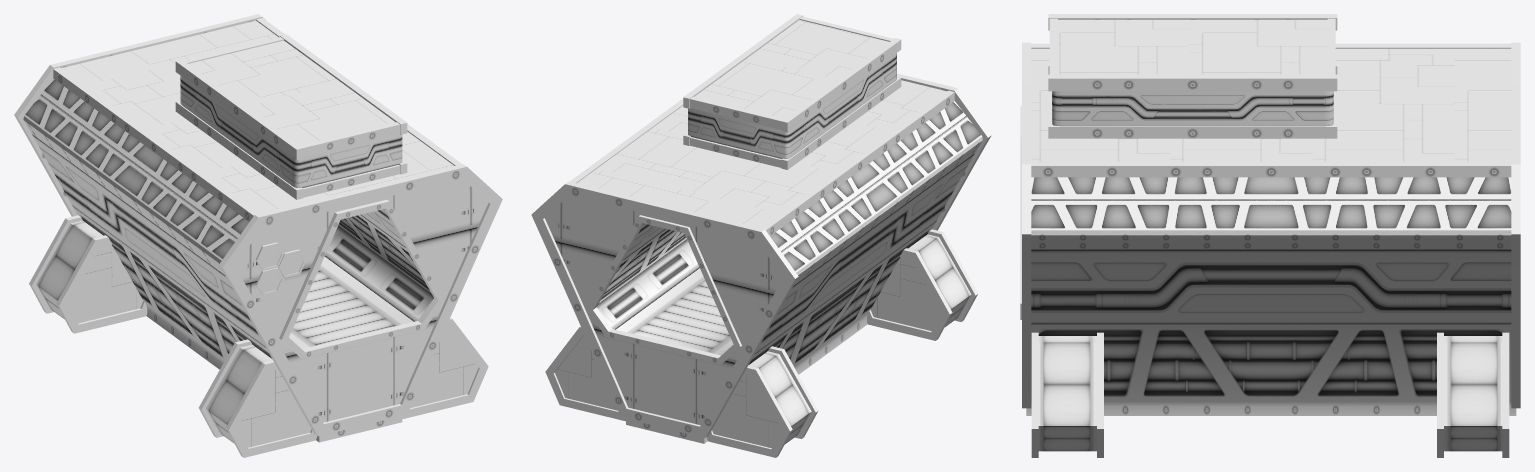
Rendered from DropOff_V3.FBX.
3 renders of one model, left to right at view 1: azimuth 30°, elevation 25°; view 2: azimuth 150°, elevation 25°; view 3: azimuth 270°, elevation 25°, orthographic. The views are drawn at different scales.
Parts seen in each view (by area): view 1: DropOff_Base; view 2: DropOff_Base; view 3: DropOff_Base.
Part boxes in pixels (x1,y1,x2,y2): DropOff_Base: (14, 14, 502, 457); DropOff_Base: (531, 14, 991, 457); DropOff_Base: (1020, 14, 1520, 457).
Size of the model in its own units: 158 by 156 by 205.
